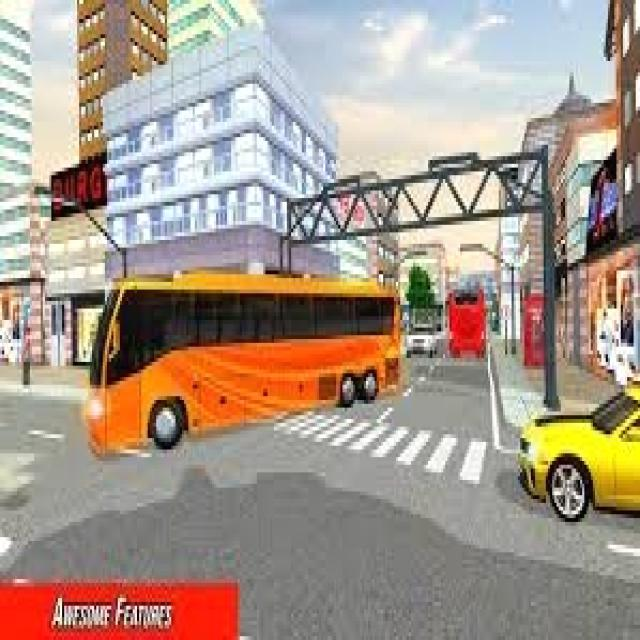bus: (81, 275, 402, 463), (443, 268, 491, 375)
